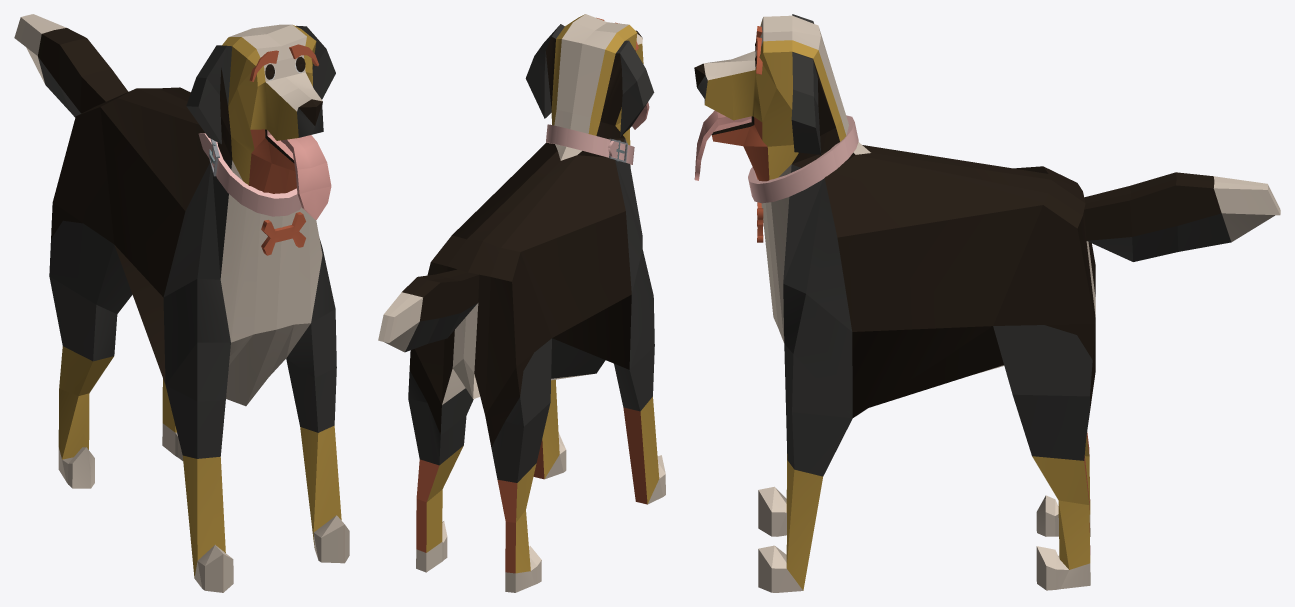
Rendered from perro_grande.glb.
3 renders of one model, left to right at view 1: azimuth 30°, elevation 25°; view 2: azimuth 150°, elevation 25°; view 3: azimuth 270°, elevation 25°, orthographic. The views are drawn at different scales.
Parts seen in each view (by area): view 1: Dog_w_Collar; view 2: Dog_w_Collar; view 3: Dog_w_Collar.
Boxes of the visible parts, <box> form: Dog_w_Collar: <box>14,14,349,592</box>; Dog_w_Collar: <box>378,14,665,592</box>; Dog_w_Collar: <box>694,14,1280,592</box>.
Bounding box in the file's own units: 0.2 × 0.7 × 0.7.
Materials: 1 (1 with a texture image).
